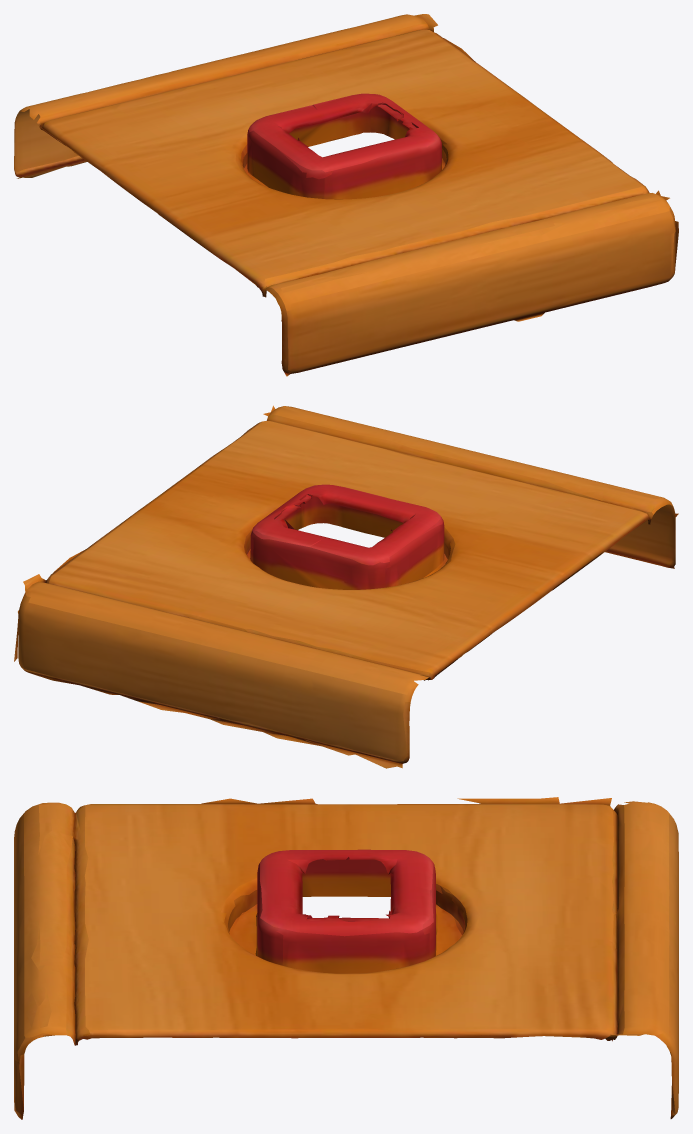
Rendered from lid.glb.
3 views of the same model, one above another, from view 1: azimuth 30°, elevation 25°; view 2: azimuth 150°, elevation 25°; view 3: azimuth 270°, elevation 25° (orthographic). The views are drawn at different scales.
Visible parts, largest first — view 1: geometry_0; view 2: geometry_0; view 3: geometry_0.
Part boxes in pixels (x1,y1,x2,y2): geometry_0: (14,14,678,376); geometry_0: (14,405,678,768); geometry_0: (14,797,678,1119).
Bounding box in the file's own units: 0.1006 × 0.0258 × 0.1178.
1 material, 1 textured.
